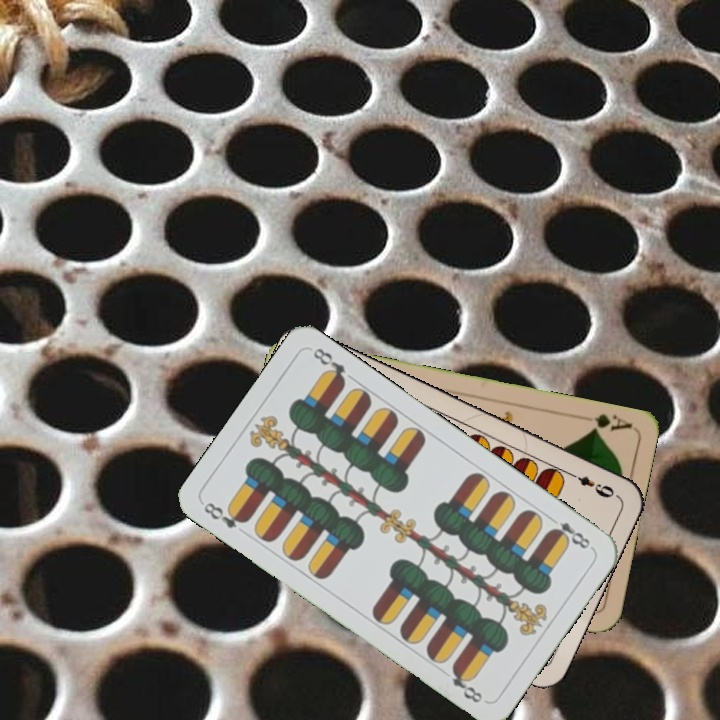E8: (544, 512, 593, 552), (199, 498, 250, 531)
E9: (564, 468, 620, 501)
GA: (586, 410, 634, 436)
